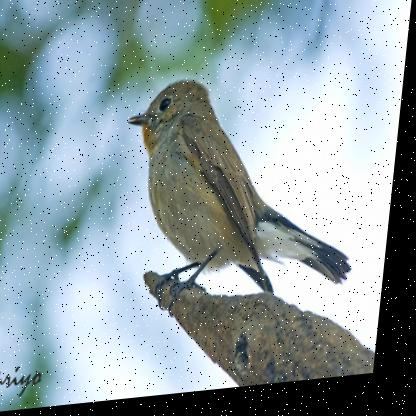Burung: (112, 66, 378, 327)
